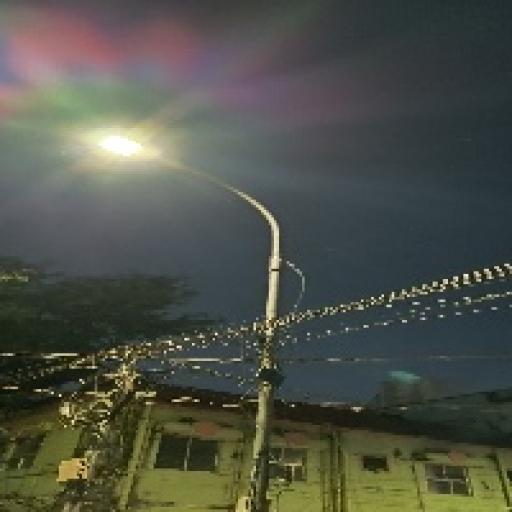Working: (85, 128, 153, 166)
